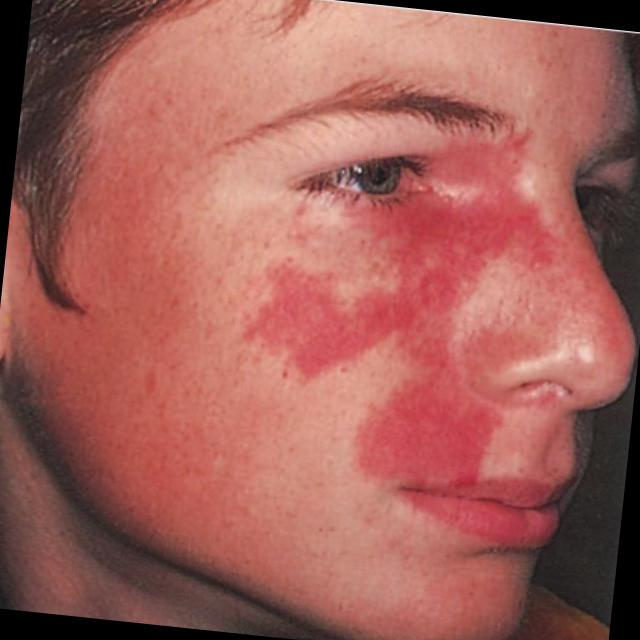redness: (257, 135, 557, 480)
